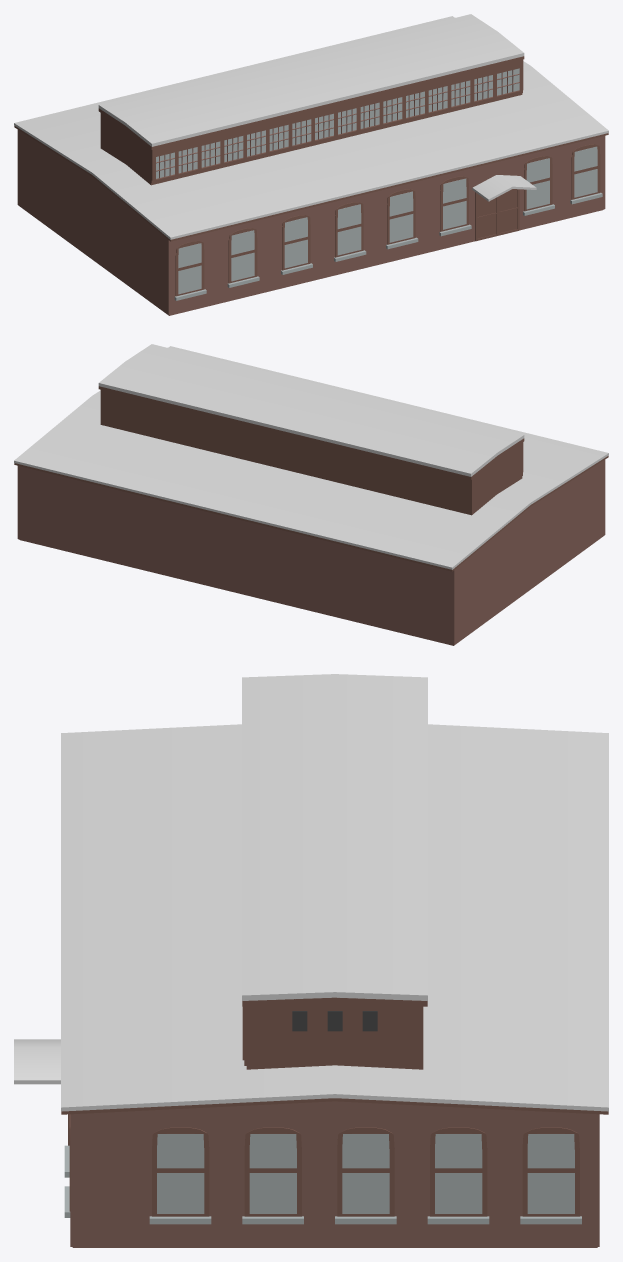
The model's file is unassignedBuildingShelled.fbx.
The picture shows the model from 3 angles, top to bottom: view 1: azimuth 30°, elevation 25°; view 2: azimuth 150°, elevation 25°; view 3: azimuth 270°, elevation 25°; orthographic projection. The views are drawn at different scales.
Visible parts, largest first — view 1: MB_UpperRoof, polySurface4, UB_UpperRoof, Window, windowBars, UpperWindowPanel, UpperBuilding, UB_LowerRoof, LowerWindowPanel, MB_LowerRoof, Window4, Window5 (+18 smaller); view 2: polySurface4, MB_UpperRoof, UB_UpperRoof, UpperBuilding, UB_LowerRoof, MB_LowerRoof, pCube4; view 3: MB_UpperRoof, UB_UpperRoof, polySurface4, UpperBuilding, Window10, Window12, Window9, Window8, Window11, dRoof, MB_LowerRoof, wFrame10 (+5 smaller).
Part boxes in pixels (x1=…): MB_UpperRoof: x1=14, y1=16, x2=608, y2=239; polySurface4: x1=17, y1=130, x2=605, y2=315; UB_UpperRoof: x1=98, y1=14, x2=524, y2=146; Window: x1=156, y1=68, x2=519, y2=178; windowBars: x1=148, y1=67, x2=523, y2=180; UpperWindowPanel: x1=151, y1=59, x2=523, y2=157; UpperBuilding: x1=100, y1=93, x2=522, y2=185; UB_LowerRoof: x1=98, y1=56, x2=524, y2=149; LowerWindowPanel: x1=151, y1=90, x2=522, y2=183; MB_LowerRoof: x1=14, y1=126, x2=608, y2=241; Window4: x1=337, y1=204, x2=361, y2=255; Window5: x1=389, y1=191, x2=413, y2=242; polySurface4: x1=17, y1=460, x2=605, y2=645; MB_UpperRoof: x1=14, y1=346, x2=608, y2=569; UB_UpperRoof: x1=98, y1=344, x2=524, y2=476; UpperBuilding: x1=100, y1=390, x2=522, y2=515; UB_LowerRoof: x1=98, y1=386, x2=524, y2=479; MB_LowerRoof: x1=14, y1=456, x2=608, y2=571; pCube4: x1=19, y1=539, x2=453, y2=645; MB_UpperRoof: x1=61, y1=724, x2=608, y2=1111; UB_UpperRoof: x1=242, y1=674, x2=427, y2=1000; polySurface4: x1=70, y1=1101, x2=599, y2=1246; UpperBuilding: x1=246, y1=1003, x2=423, y2=1069; Window10: x1=342, y1=1134, x2=389, y2=1213; Window12: x1=527, y1=1134, x2=574, y2=1213; Window9: x1=249, y1=1134, x2=296, y2=1213; Window8: x1=157, y1=1134, x2=204, y2=1213; Window11: x1=435, y1=1134, x2=482, y2=1213; dRoof: x1=14, y1=1039, x2=60, y2=1084; MB_LowerRoof: x1=61, y1=1098, x2=608, y2=1114; wFrame10: x1=337, y1=1127, x2=394, y2=1216.
Bounding box in the file's own units: 5.04 × 1.43 × 3.37.
